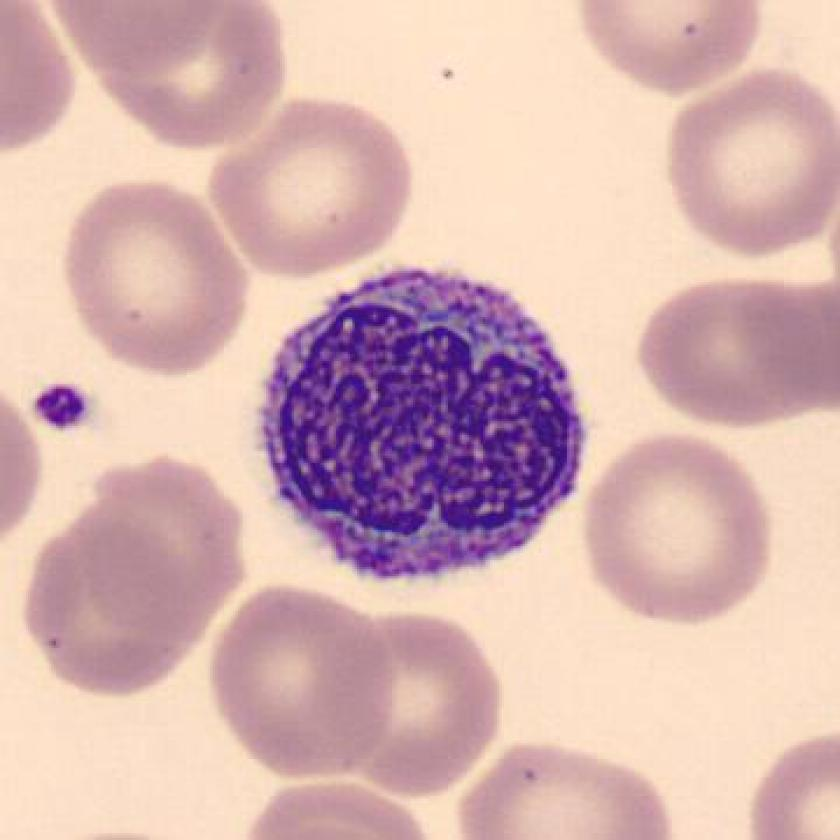monocyte: (237, 242, 601, 603)
